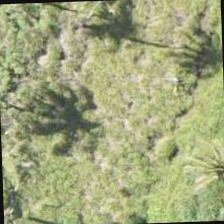Kelapa_Sawit: (170, 122, 223, 215), (1, 144, 55, 223)
